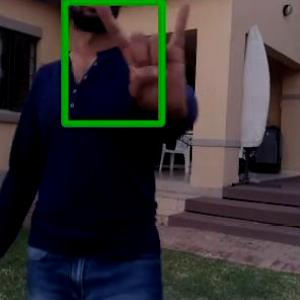takeoff-hand: (87, 0, 199, 125)
